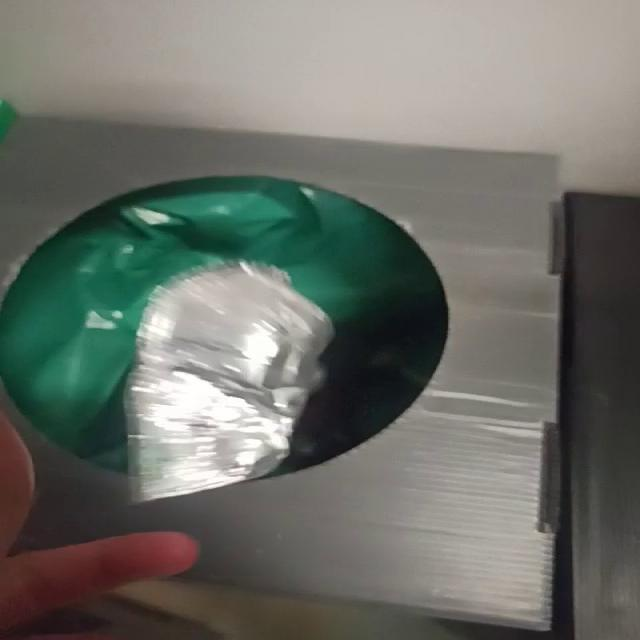Bin: (1, 119, 560, 632)
Metal: (124, 263, 333, 503)
